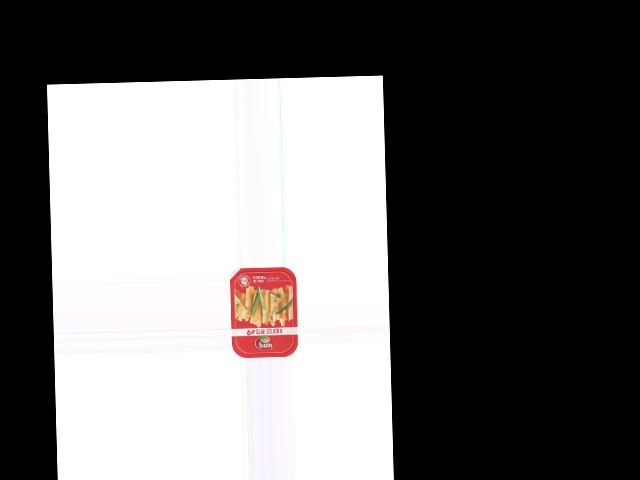cheese: (230, 266, 299, 358)
